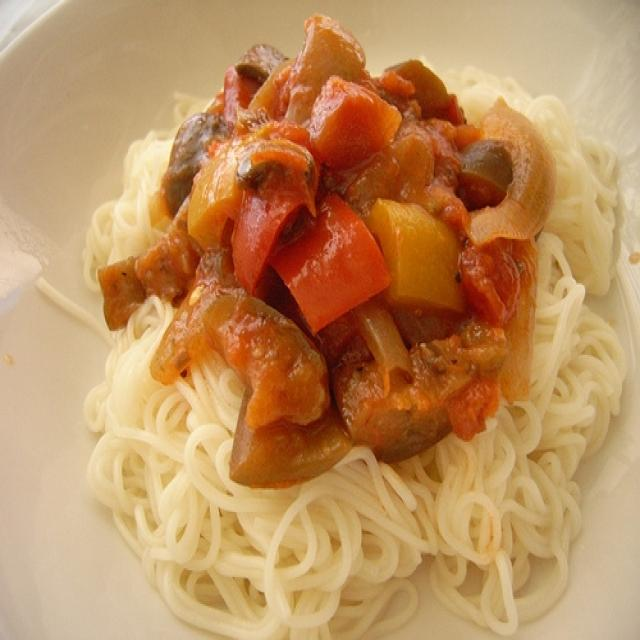面条主食: (18, 12, 621, 633)
